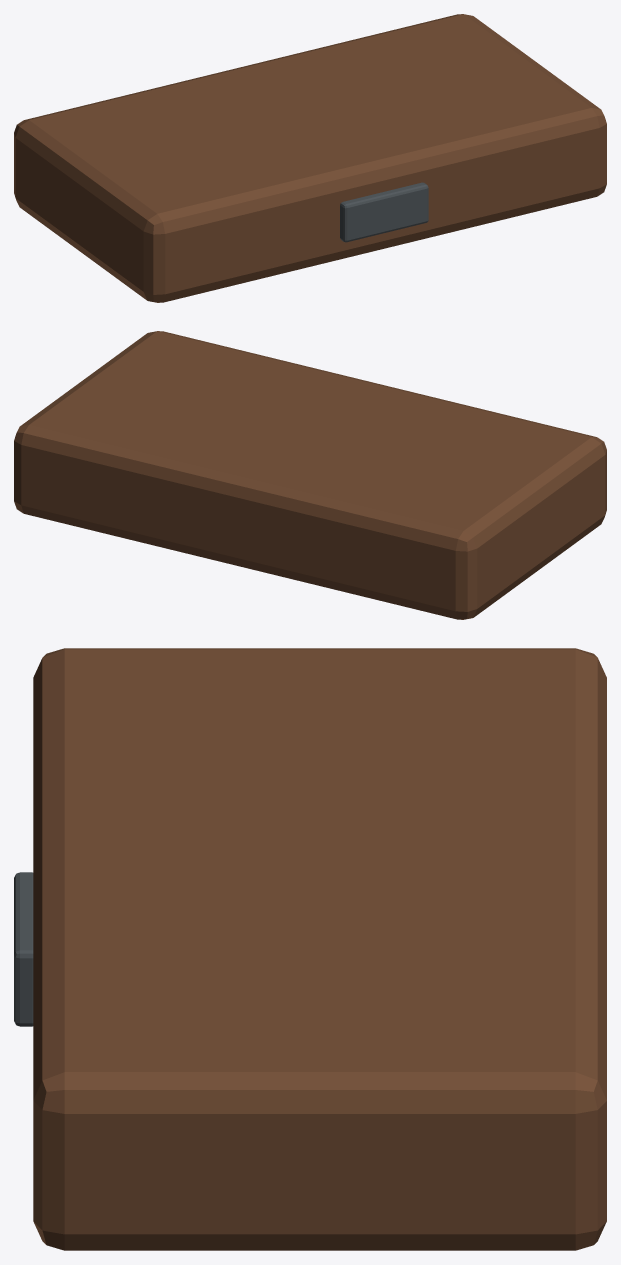
The model's file is module_hidden_compartment_v01.glb.
3 views of the same model, one above another, from view 1: azimuth 30°, elevation 25°; view 2: azimuth 150°, elevation 25°; view 3: azimuth 270°, elevation 25° (orthographic). The views are drawn at different scales.
Parts seen in each view (by area): view 1: GEO_HiddenBox, GEO_HiddenLatch; view 2: GEO_HiddenBox; view 3: GEO_HiddenBox, GEO_HiddenLatch.
Boxes of the visible parts, left/top/right/bottom form: GEO_HiddenBox: left=14, top=14, right=606, bottom=302; GEO_HiddenLatch: left=340, top=182, right=428, bottom=242; GEO_HiddenBox: left=14, top=331, right=606, bottom=619; GEO_HiddenBox: left=33, top=648, right=606, bottom=1250; GEO_HiddenLatch: left=14, top=872, right=33, bottom=1026.
Size of the model in its own units: 1.52 by 0.28 by 0.8475.
